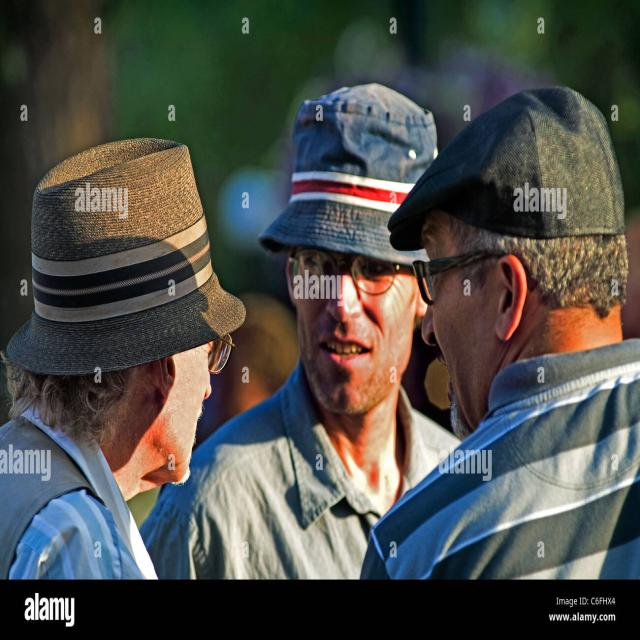hat: (4, 136, 246, 492), (256, 83, 459, 421)
